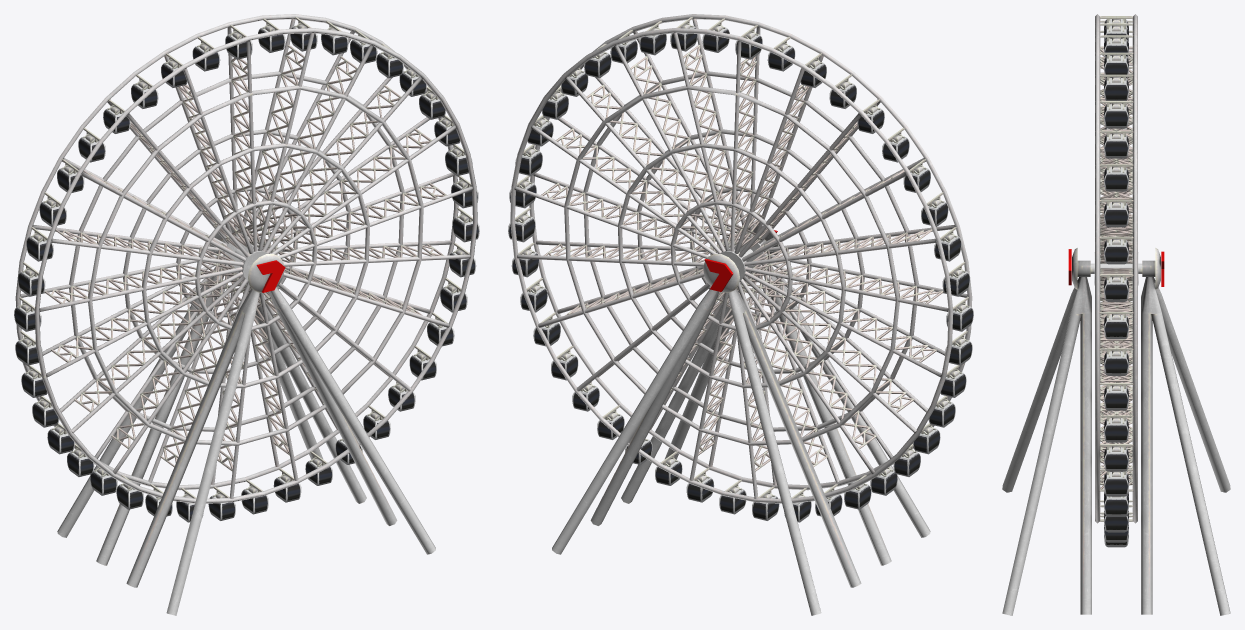
The picture shows the model from 3 angles, left to right: view 1: azimuth 30°, elevation 25°; view 2: azimuth 150°, elevation 25°; view 3: azimuth 270°, elevation 25°; orthographic projection.
Visible parts, largest first — view 1: Pipe.007, Pipe, Support, Circle; view 2: Pipe.007, Pipe, Support, Circle; view 3: Support, Pipe, Pipe.007, Circle, Pla_k52m5y_.034, Pla_k52m5y_.035, Pla_k52m5y_.036, Pla_k52m5y_.038, Pla_k52m5y_.039, Pla_k52m5y_.041, Pla_k52m5y_.031, Pla_k52m5y_.032 (+11 smaller).
Boxes of the visible parts, box(x1,y1,x2,y2) form: Pipe.007: box(20, 19, 473, 498); Pipe: box(15, 14, 477, 503); Support: box(57, 266, 435, 615); Circle: box(209, 225, 284, 292); Pipe.007: box(514, 19, 967, 498); Pipe: box(510, 14, 972, 503); Support: box(552, 266, 930, 615); Circle: box(703, 225, 778, 292); Support: box(1002, 277, 1230, 615); Pipe: box(1095, 14, 1137, 523); Pipe.007: box(1100, 47, 1132, 489); Circle: box(1072, 248, 1160, 289); Pla_k52m5y_.034: box(1099, 199, 1133, 227); Pla_k52m5y_.035: box(1099, 236, 1133, 264); Pla_k52m5y_.036: box(1099, 274, 1133, 301); Pla_k52m5y_.038: box(1099, 348, 1133, 375); Pla_k52m5y_.039: box(1099, 383, 1133, 410); Pla_k52m5y_.041: box(1099, 444, 1133, 471); Pla_k52m5y_.031: box(1100, 101, 1132, 128); Pla_k52m5y_.032: box(1100, 131, 1132, 158).
Size of the model in its own units: 56.54 by 61.72 by 24.76.
Materials: 1 (1 with a texture image).
